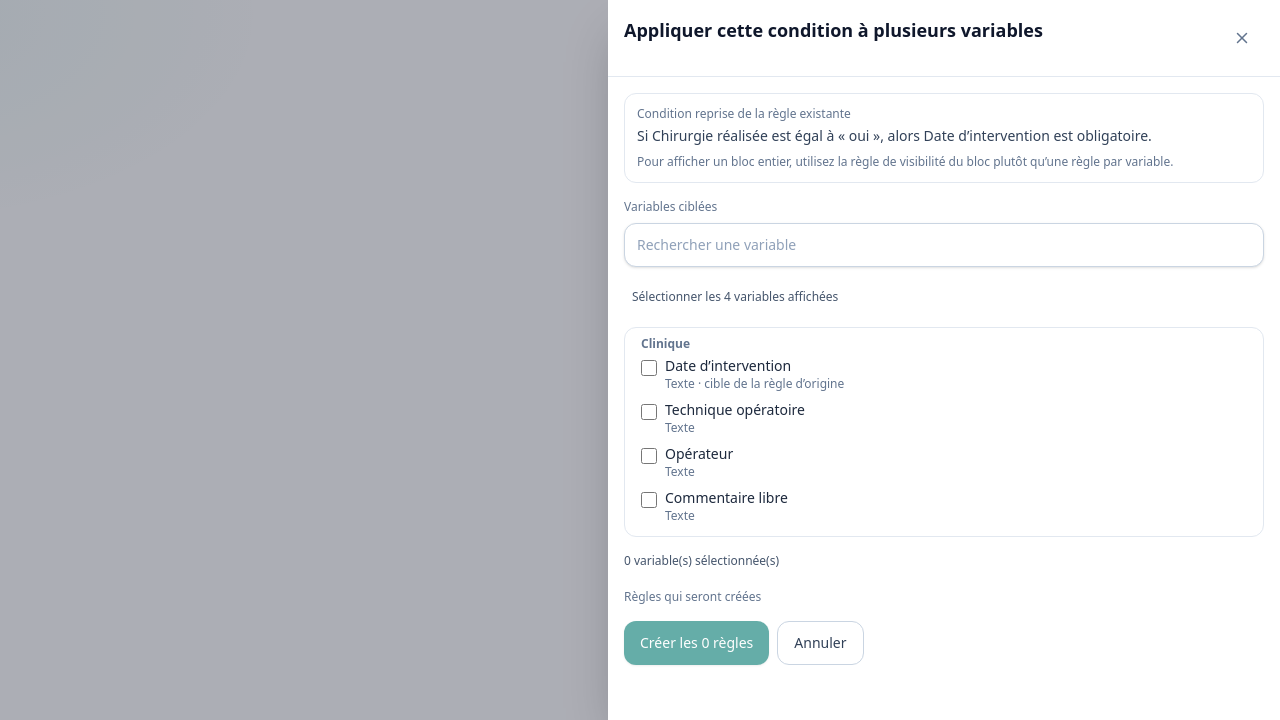
RuleBatchPanel (UX-14(c)) › T27 : filtrer ne perd pas la sélection et la confirmation est un seul geste
Click the checkbox labelled "Technique opératoire Texte" at (649, 412), box [641,404,657,420]
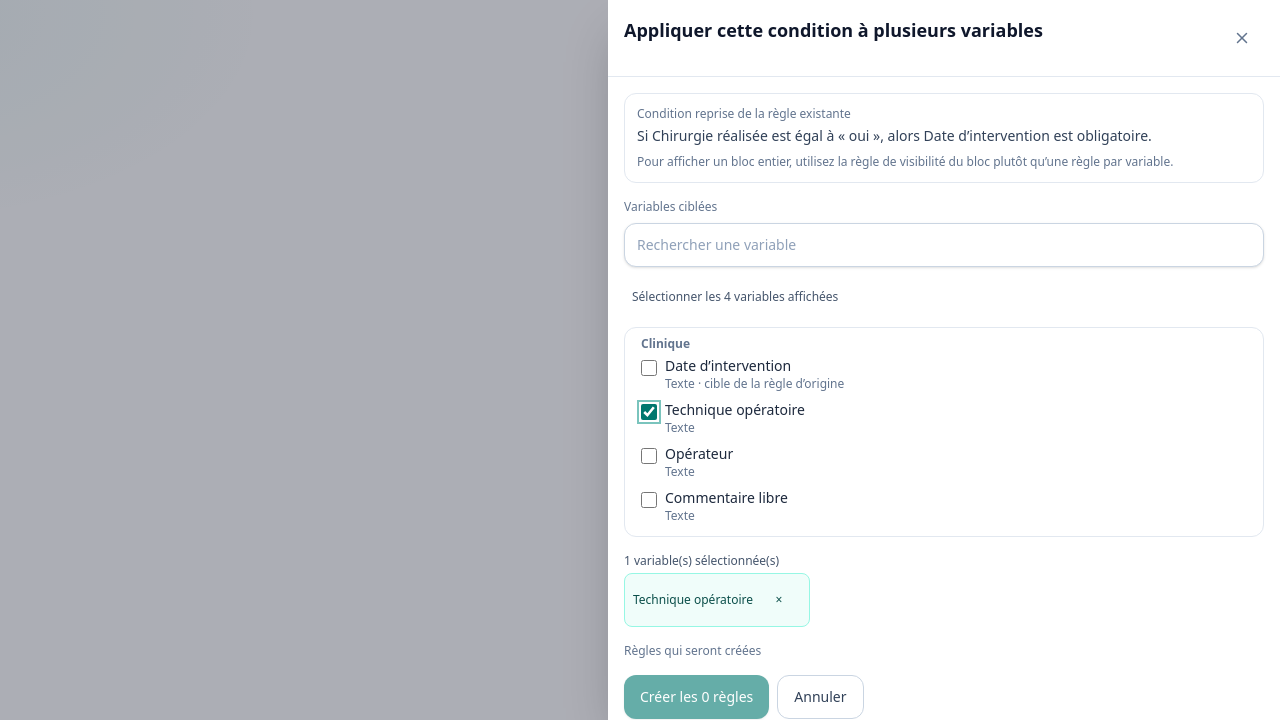
# La recherche masque la variable déjà cochée : elle reste sélectionnée et récapitulée.
Type "Opérateur" into the search field labelled "Rechercher une variable" at (944, 245), box [624,223,1264,267]
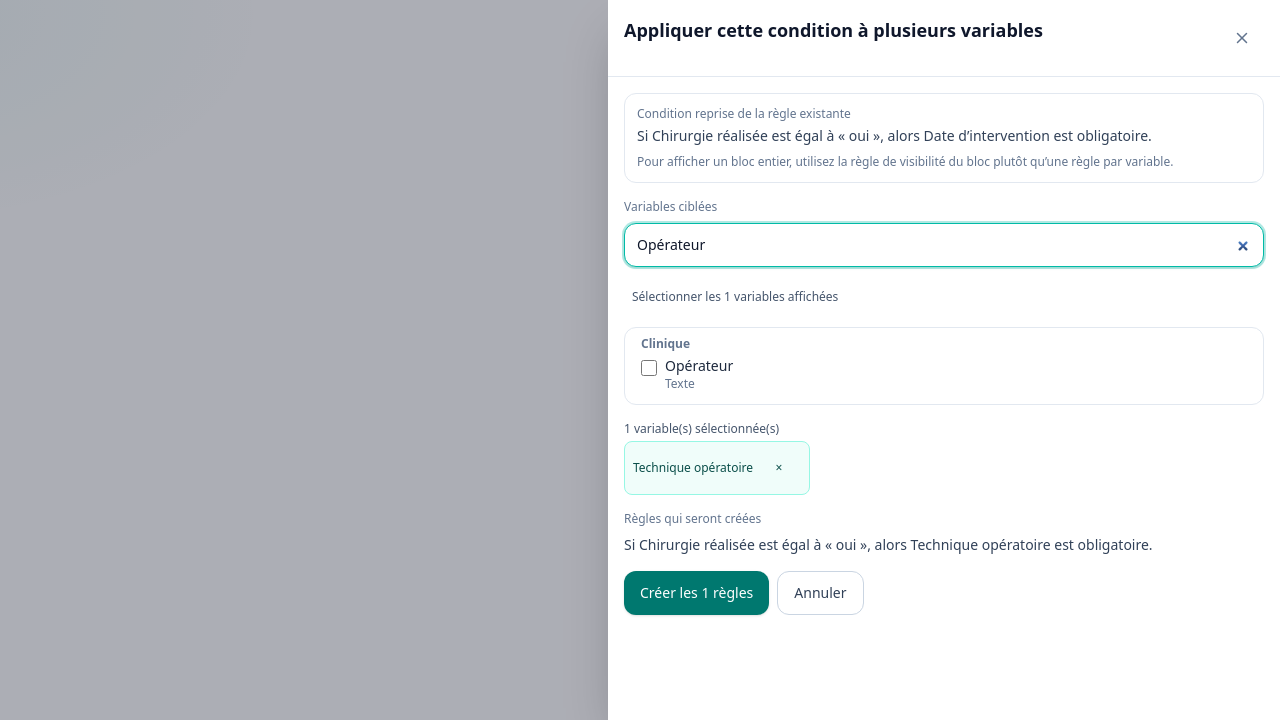
Check: the text "1 variable(s) sélectionnée(s)" is shown, box [624,420,779,437]
# « Sélectionner les résultats » annonce exactement combien, sans toucher aux masquées.
Click the button "Sélectionner les 1 variables affichées" at (735, 297), box [624,275,846,319]
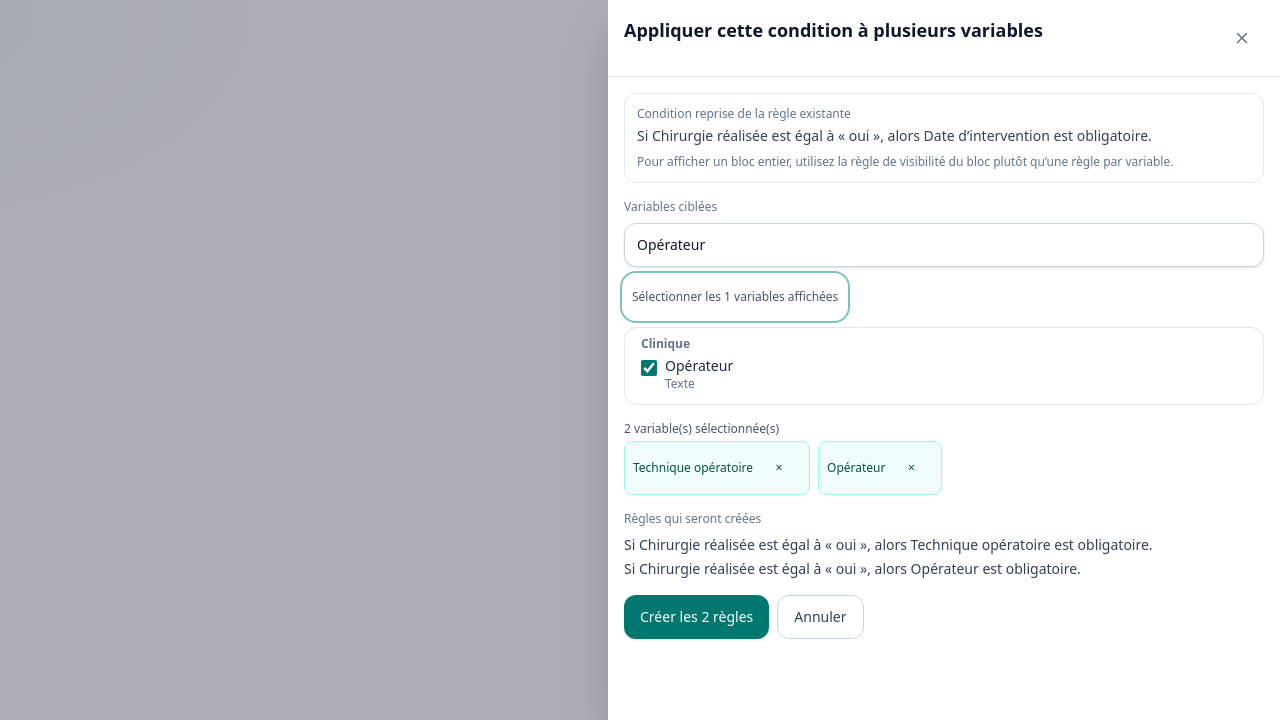
Check: the text "2 variable(s) sélectionnée(s)" is shown, box [624,420,779,437]
Click the button "Créer les 2 règles" at (697, 617), box [624,595,769,639]
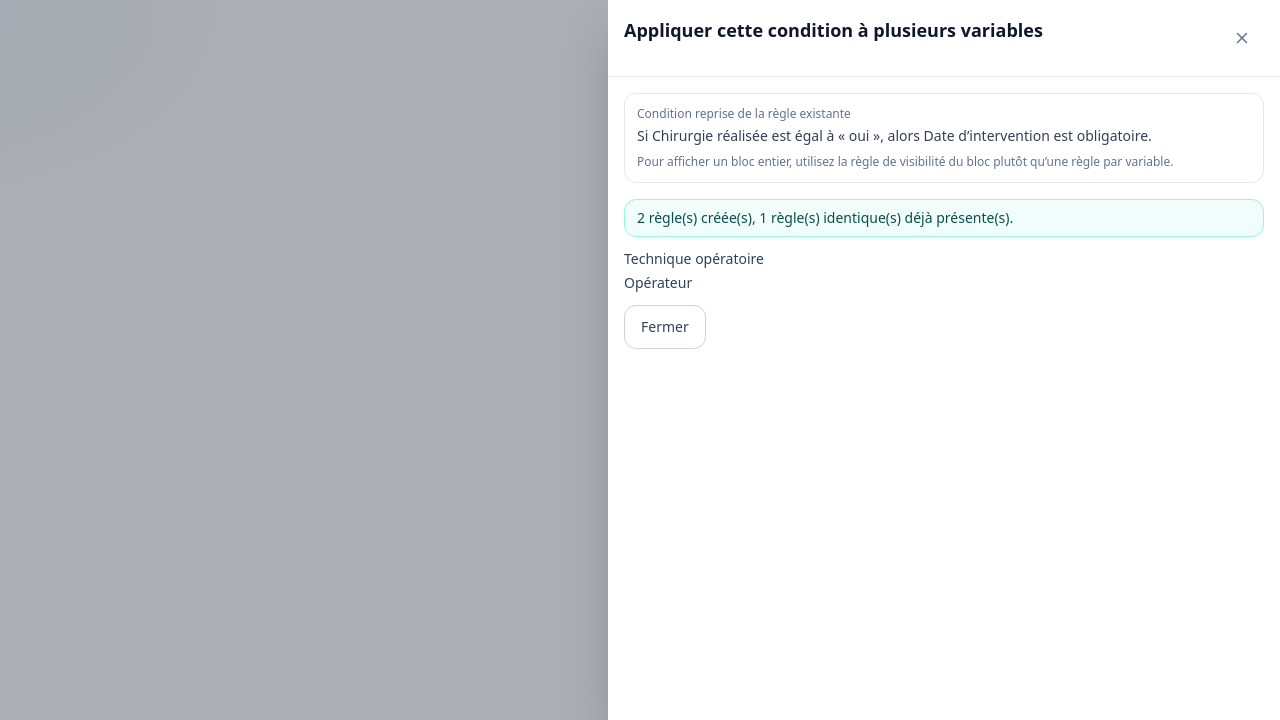
Check: the message reads "2 règle(s) créée(s), 1 règle(s) identique(s) déjà présente(s).", box [637,208,1013,227]
